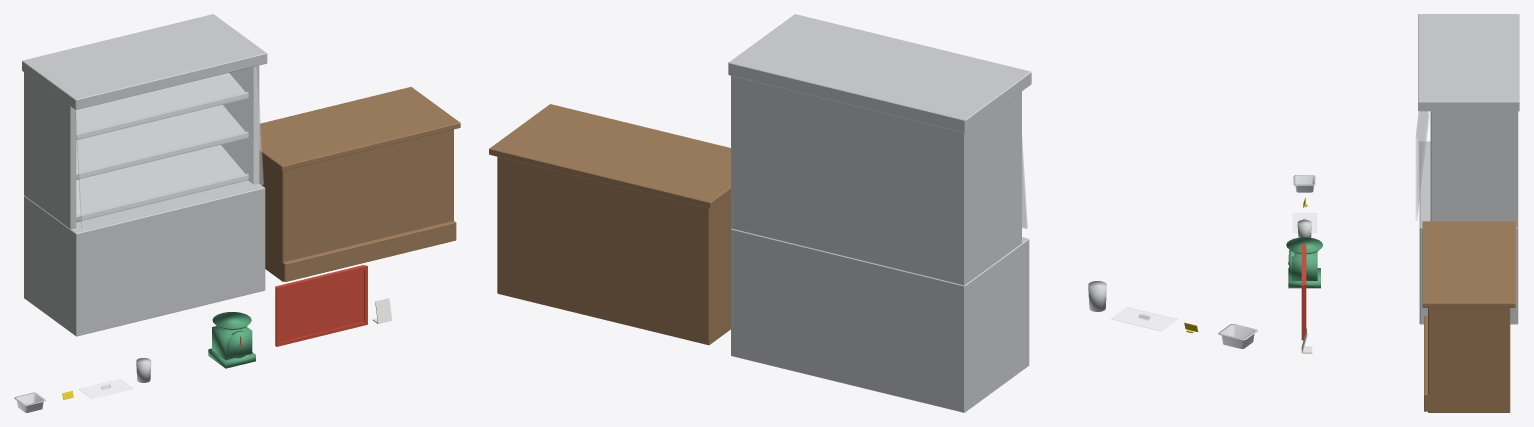
The model's file is Phase4_Props_PickPay.glb.
3 views of the same model, side by side, from view 1: azimuth 30°, elevation 25°; view 2: azimuth 150°, elevation 25°; view 3: azimuth 270°, elevation 25° (orthographic). The views are drawn at different scales.
Visible parts, largest first — view 1: IngredientShelf, CashierCounter, IngredientShelf_Glass, PriceBoard, Scale_Dial, DisplayTray_Lid, DisplayTray_Half; view 2: IngredientShelf, CashierCounter, DisplayTray_Lid, DisplayTray_Half; view 3: IngredientShelf, CashierCounter, Scale_Dial, IngredientShelf_Glass, PriceBoard, DisplayTray_Half, DisplayTray_Lid, TongsHolder.
Boxes of the visible parts, <box> form: IngredientShelf: <box>22,14,267,336</box>; CashierCounter: <box>259,87,460,281</box>; IngredientShelf_Glass: <box>75,66,263,228</box>; PriceBoard: <box>275,265,367,346</box>; Scale_Dial: <box>208,312,255,368</box>; DisplayTray_Lid: <box>79,379,132,398</box>; DisplayTray_Half: <box>14,392,45,412</box>; IngredientShelf: <box>728,14,1031,412</box>; CashierCounter: <box>489,104,731,345</box>; DisplayTray_Lid: <box>1111,307,1177,331</box>; DisplayTray_Half: <box>1218,324,1257,348</box>; IngredientShelf: <box>1418,14,1519,324</box>; CashierCounter: <box>1422,221,1515,412</box>; Scale_Dial: <box>1286,237,1322,288</box>; IngredientShelf_Glass: <box>1415,111,1429,220</box>; PriceBoard: <box>1301,243,1306,340</box>; DisplayTray_Half: <box>1293,175,1315,192</box>; DisplayTray_Lid: <box>1292,213,1316,232</box>; TongsHolder: <box>1297,219,1311,237</box>.
Bounding box in the file's own units: 4 × 1.8 × 1.71.
